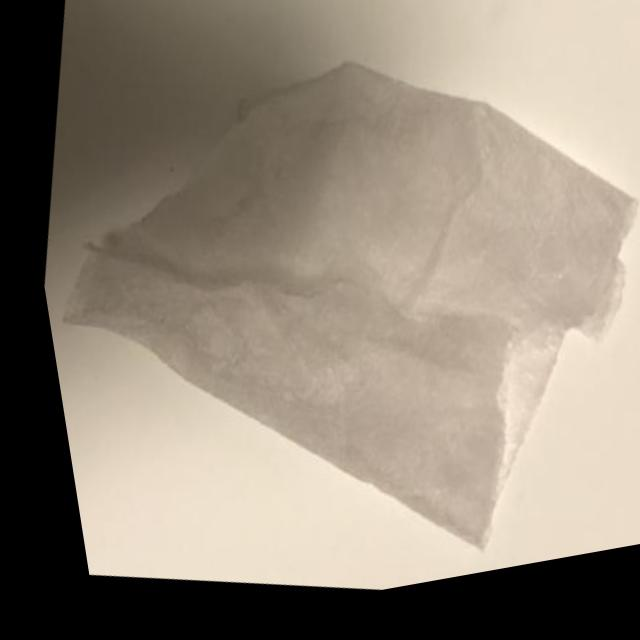trash: (2, 0, 640, 640)
